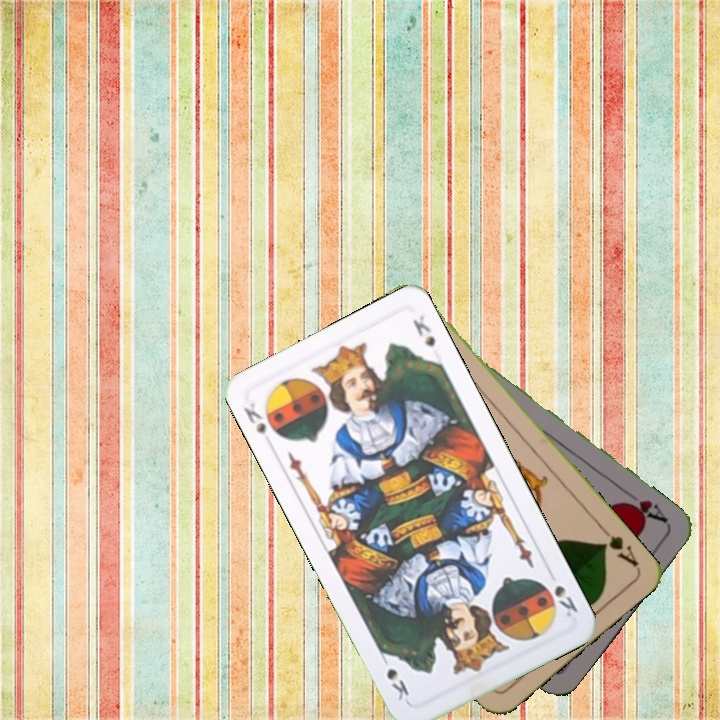GA: (596, 522, 641, 570)
HA: (618, 486, 671, 527)
SK: (239, 398, 284, 441), (550, 581, 581, 621)
